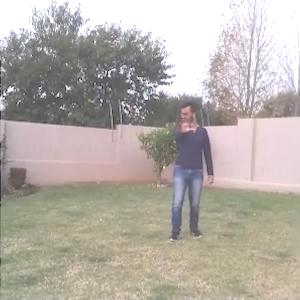follow_hand: (174, 112, 196, 134)
